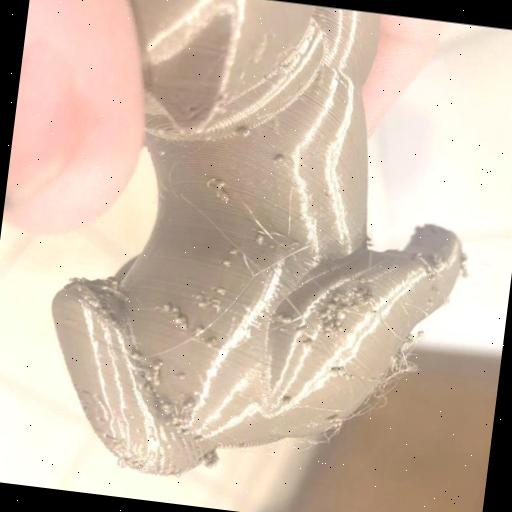blobs: (202, 450, 222, 470), (326, 410, 345, 430), (214, 188, 232, 206), (191, 322, 207, 340), (322, 318, 338, 336), (236, 124, 252, 140), (278, 311, 294, 327), (191, 289, 207, 304), (128, 347, 140, 366), (364, 290, 378, 306), (180, 398, 194, 413), (227, 243, 240, 259), (212, 284, 226, 298), (316, 308, 330, 322), (282, 392, 296, 406), (333, 366, 347, 380), (204, 334, 217, 348), (176, 370, 189, 384), (152, 358, 166, 371), (149, 374, 164, 386), (274, 154, 288, 166), (336, 310, 350, 322), (213, 300, 224, 314), (254, 234, 266, 246), (355, 272, 367, 284), (210, 294, 222, 306), (221, 257, 232, 269), (326, 299, 338, 310), (196, 298, 206, 310)
